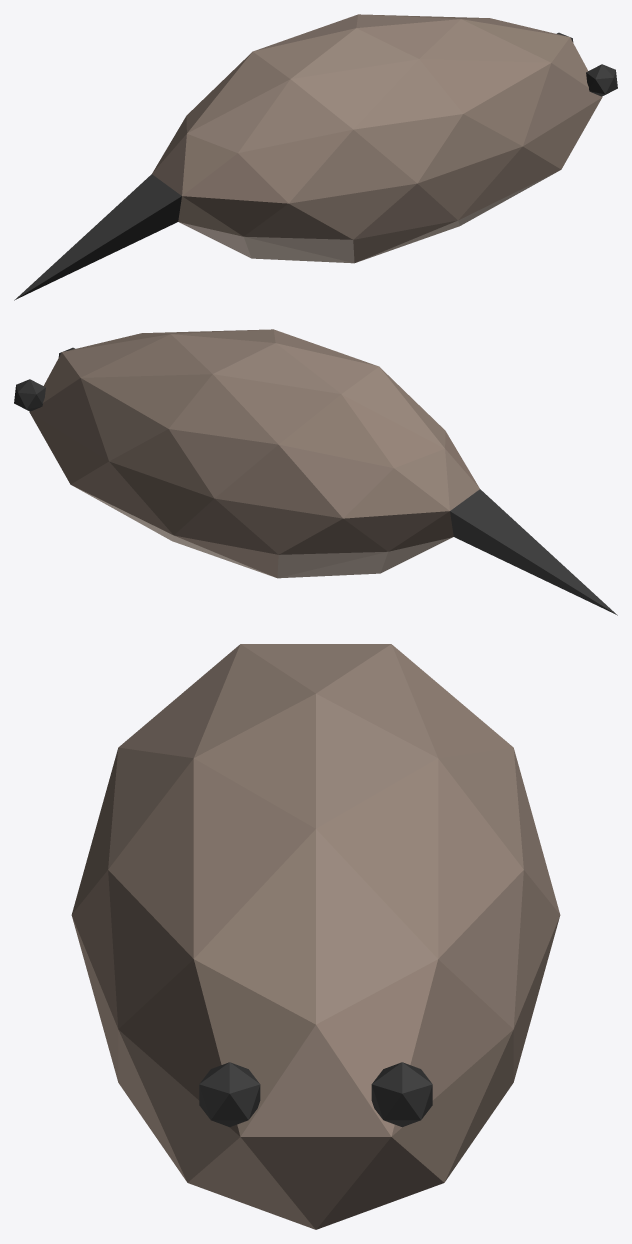
Rendered from Rat.glb.
3 views of the same model, one above another, from view 1: azimuth 30°, elevation 25°; view 2: azimuth 150°, elevation 25°; view 3: azimuth 270°, elevation 25° (orthographic). The views are drawn at different scales.
Parts seen in each view (by area): view 1: Rat; view 2: Rat; view 3: Rat.
Part boxes in pixels (<box>): Rat: <box>14,14,617,300</box>; Rat: <box>14,329,617,615</box>; Rat: <box>71,644,560,1229</box>.
Bounding box in the file's own units: 0.9324 × 0.34 × 0.34.
